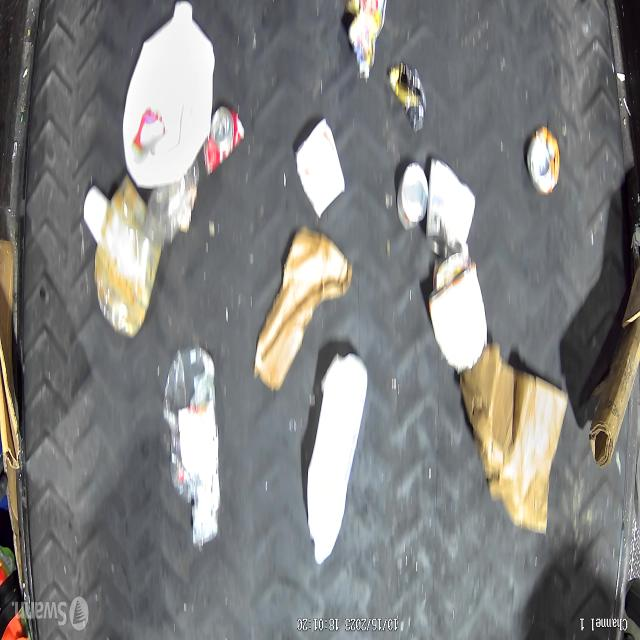can: (425, 159, 476, 258), (203, 103, 243, 175), (527, 127, 560, 194), (396, 163, 428, 231)
milk_jug: (122, 0, 215, 189), (306, 353, 368, 567)
plastic_bottle: (164, 347, 221, 549)
